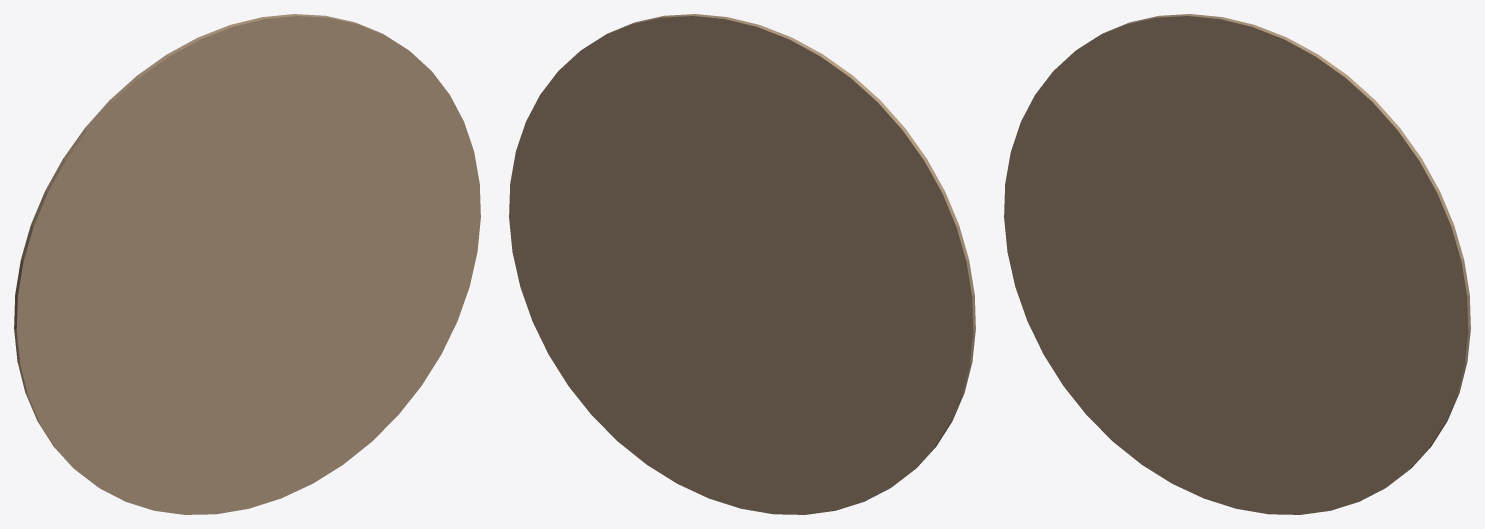
File: hotspot-marker-disc.glb
3 views of the same model, side by side, from view 1: azimuth 30°, elevation 25°; view 2: azimuth 150°, elevation 25°; view 3: azimuth 330°, elevation 25° (orthographic).
Parts seen in each view (by area): view 1: Mesh_Mesh_head_geo.001_lambert2SG.001; view 2: Mesh_Mesh_head_geo.001_lambert2SG.001; view 3: Mesh_Mesh_head_geo.001_lambert2SG.001.
Part boxes in pixels (x1=…): Mesh_Mesh_head_geo.001_lambert2SG.001: x1=14, y1=14, x2=480, y2=514; Mesh_Mesh_head_geo.001_lambert2SG.001: x1=509, y1=14, x2=975, y2=514; Mesh_Mesh_head_geo.001_lambert2SG.001: x1=1004, y1=14, x2=1470, y2=514.
Size of the model in its own units: 0.1 by 0.1 by 0.001.
